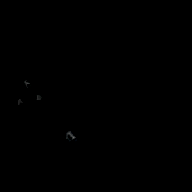v: (13, 76, 42, 105)
